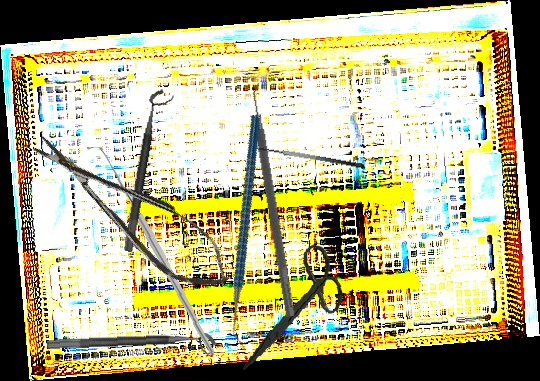Chopper: (161, 114, 337, 351)
Fixation Ring: (122, 87, 176, 255), (46, 333, 218, 363)
Hook Surgical: (79, 146, 224, 356)
Iris Scissors: (242, 237, 349, 381)
Micro Scissor: (23, 114, 243, 308)
Spatula Surgical: (244, 81, 307, 318), (249, 141, 365, 178)
